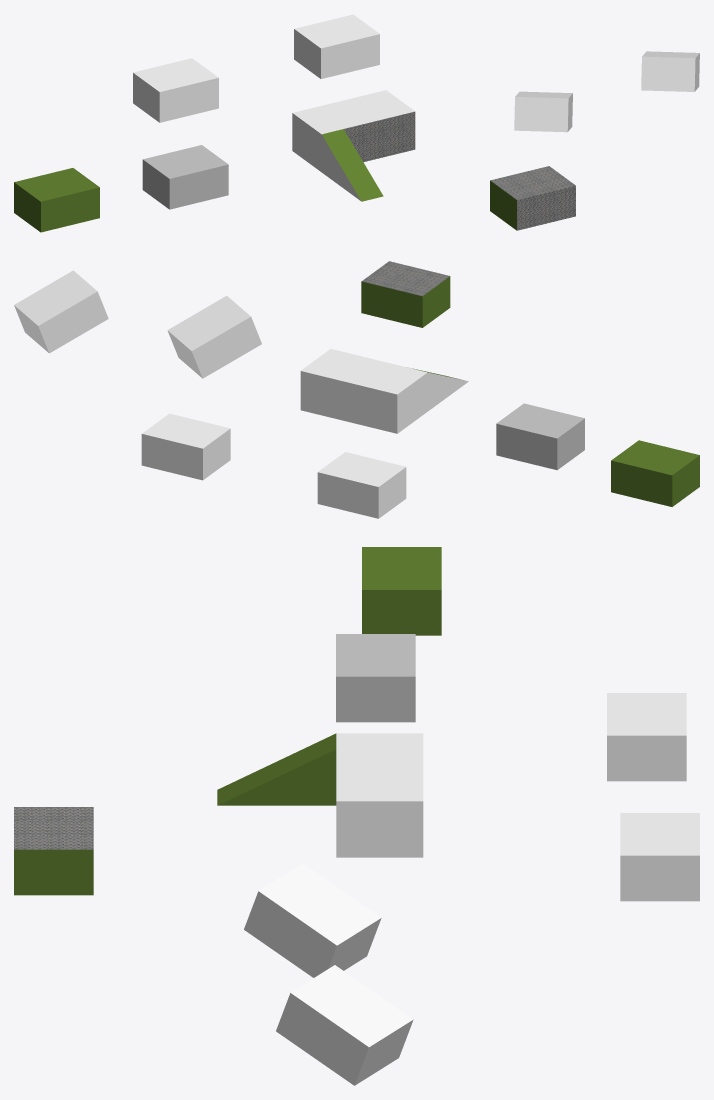
Rendered from weird_sketchup_example.dae.
3 views of the same model, one above another, from view 1: azimuth 30°, elevation 25°; view 2: azimuth 150°, elevation 25°; view 3: azimuth 270°, elevation 25° (orthographic). The views are drawn at different scales.
Parts seen in each view (by area): view 1: SketchUp (×3), Copy_First_Cube_Component (×2), SteelCube, TestMultiComponent (×2), BlahCube, TestGroup2, TestGroup; view 2: Copy_First_Cube_Component (×2), SketchUp, TestMultiComponent (×2), TestGroup2, TestGroup, SteelCube, BlahCube; view 3: SketchUp (×2), Copy_First_Cube_Component (×2), TestGroup2, TestGroup, TestMultiComponent (×2), SteelCube, BlahCube.
Boxes of the visible parts, x1,y1,x2,y2 form: SketchUp (×3): [292, 90, 415, 201]; Copy_First_Cube_Component (×2): [133, 14, 379, 122]; SteelCube: [142, 145, 228, 209]; TestMultiComponent (×2): [490, 166, 575, 230]; BlahCube: [14, 168, 99, 232]; TestGroup2: [641, 51, 699, 91]; TestGroup: [514, 91, 572, 132]; Copy_First_Cube_Component (×2): [141, 413, 406, 518]; SketchUp: [300, 349, 468, 433]; TestMultiComponent (×2): [361, 261, 450, 327]; TestGroup2: [14, 270, 108, 353]; TestGroup: [167, 295, 261, 378]; SteelCube: [496, 403, 584, 470]; BlahCube: [611, 440, 699, 506]; SketchUp (×2): [217, 733, 423, 857]; Copy_First_Cube_Component (×2): [607, 693, 699, 901]; TestGroup2: [276, 965, 413, 1085]; TestGroup: [244, 863, 381, 977]; TestMultiComponent (×2): [14, 807, 93, 895]; SteelCube: [336, 634, 415, 722]; BlahCube: [362, 547, 441, 635].
Bounding box in the file's own units: 1598 × 967 × 119.
